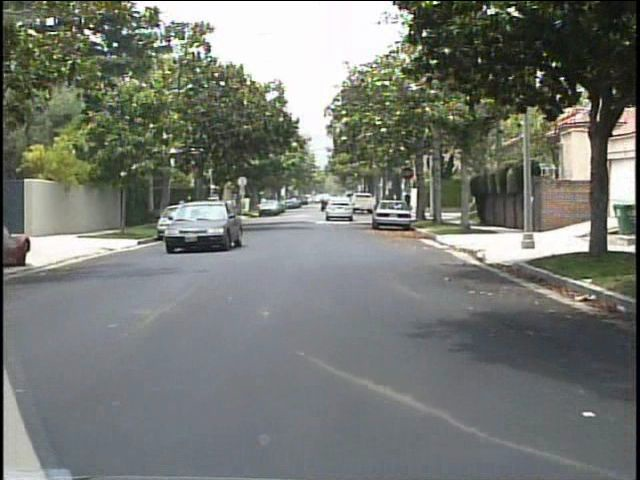person: (518, 185, 537, 238), (172, 194, 189, 230)
